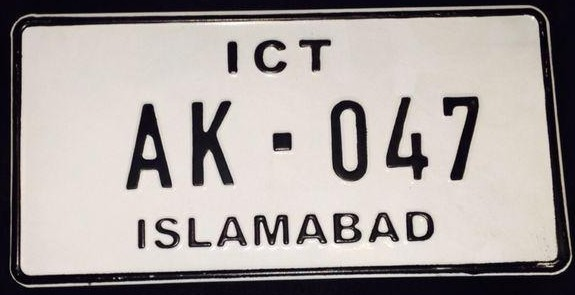0: (322, 96, 374, 183)
4: (381, 93, 434, 183)
7: (440, 90, 479, 182)
A: (123, 100, 177, 193), (296, 211, 331, 248), (367, 210, 402, 246), (215, 214, 249, 249)
B: (331, 208, 366, 247)
C: (252, 38, 293, 76)
D: (402, 208, 439, 243)
I: (223, 39, 245, 77), (133, 217, 149, 250)
K: (187, 97, 241, 189)
L: (184, 214, 214, 250)
M: (250, 213, 291, 247)
S: (152, 216, 183, 250)
T: (297, 35, 333, 76)
